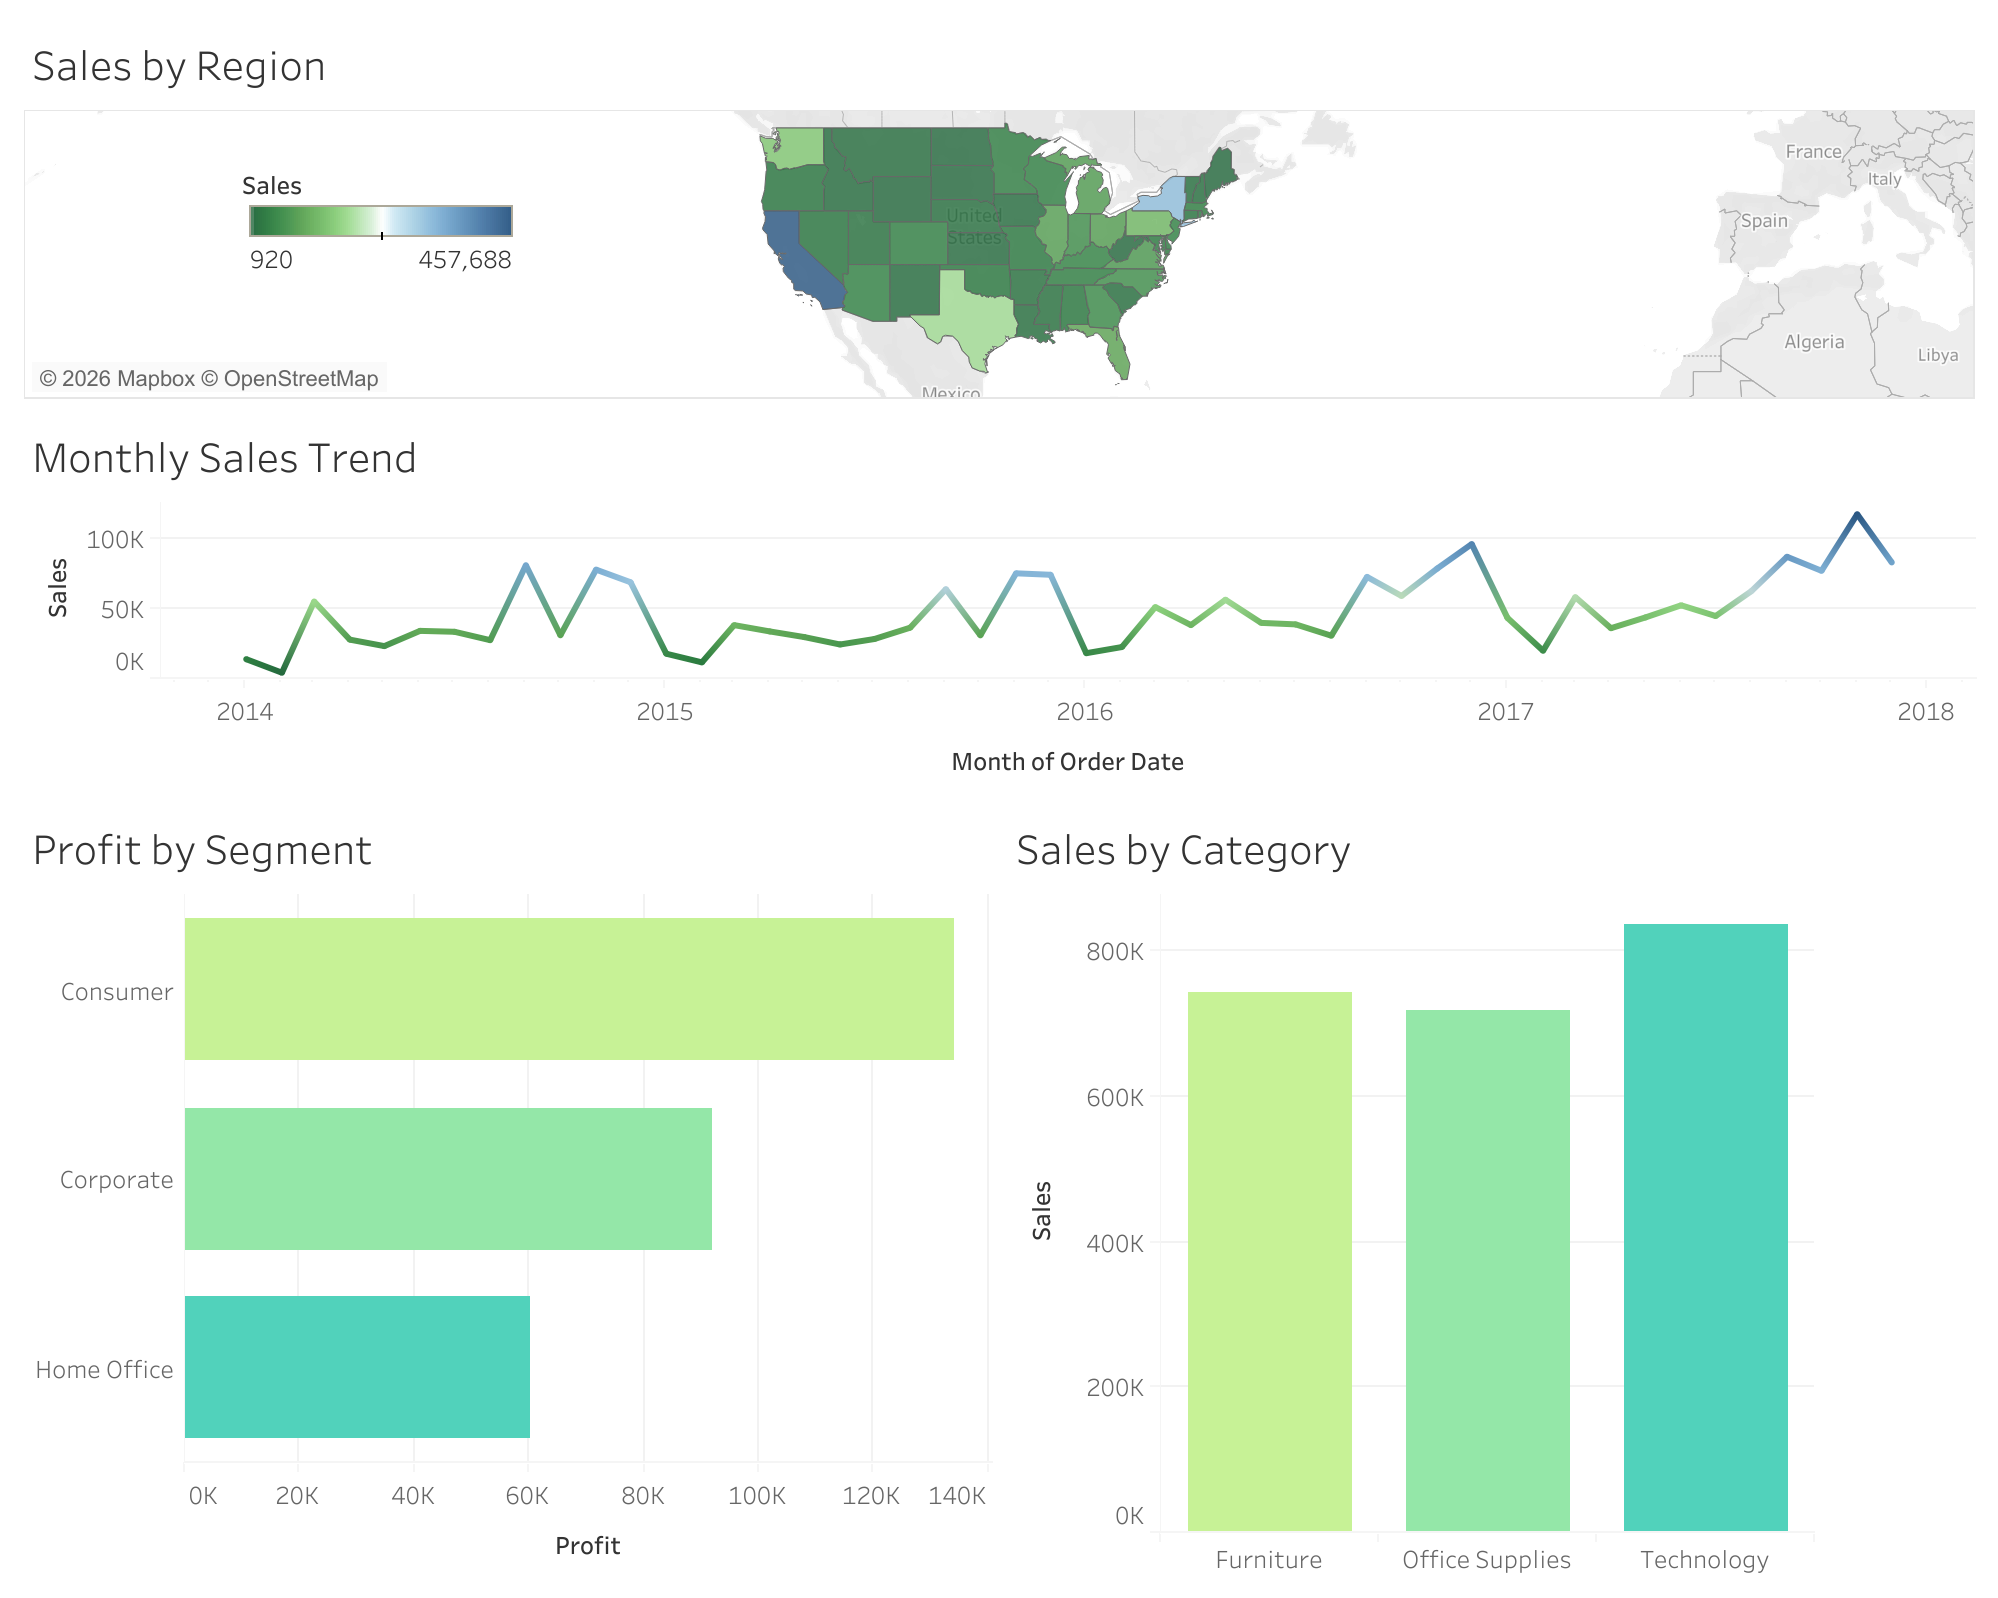

This screenshot's page, from the dashboard's own definition file:
{"tool":"tableau","page":{"name":"Global Sales Performance Dashboard","canvas":[1000,800],"ordinal":0},"visuals":[{"type":"worksheet","title":"Sales by Region","mark":"Multipolygon","box":[8,8,984,196]},{"type":"legend","title":"Sales by Region","param":"[federated.1p62q0v1e575f418i28q60f13mld].[sum:Sales:qk]","box":[121,79,140,76]},{"type":"worksheet","title":"Monthly Sales Trend","mark":"Automatic","rows":["Sales"],"cols":["Order Date"],"box":[8,204,984,196]},{"type":"worksheet","title":"Profit by Segment","mark":"Automatic","rows":["Segment"],"cols":["Profit"],"box":[8,400,492,392]},{"type":"worksheet","title":"Sales by Category","mark":"Automatic","rows":["Sales"],"cols":["Category"],"box":[500,400,492,392]}]}

Visuals, with their boxes in screenshot pixels (x1, y1, x2, y2), scaled from the page's 1000x800 canvas onto the 1998x1598 screenshot:
"Sales by Region" worksheet (Multipolygon marks): 16/16/1982/407
"Sales by Region" legend: 242/158/521/310
"Monthly Sales Trend" worksheet: 16/407/1982/799
"Profit by Segment" worksheet: 16/799/999/1582
"Sales by Category" worksheet: 999/799/1982/1582
